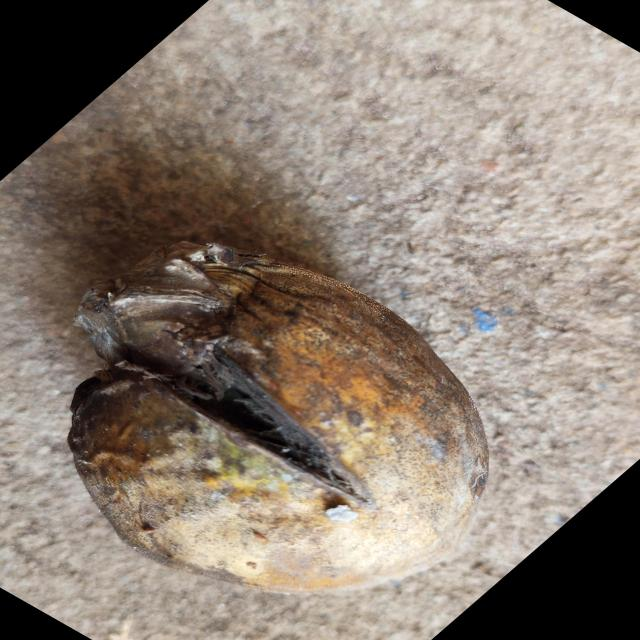damaged: (67, 258, 490, 594)
